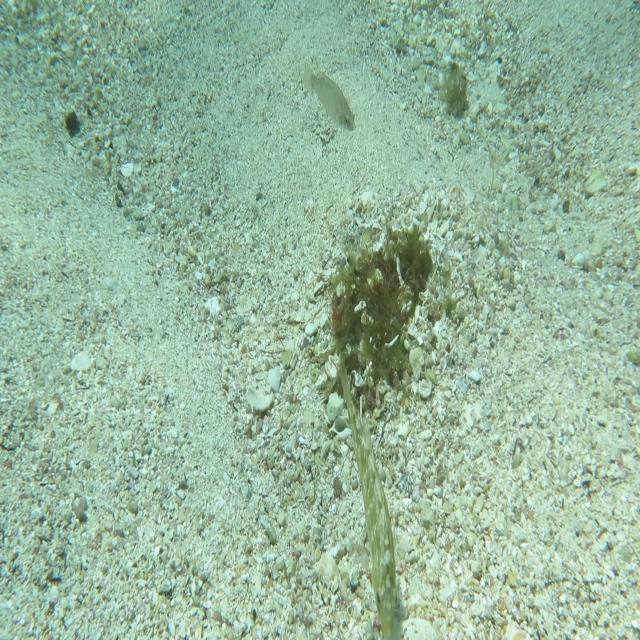SA: (338, 364, 402, 640)
core_nest: (383, 251, 425, 284)
female: (301, 60, 357, 134)
nest: (321, 217, 445, 412)
